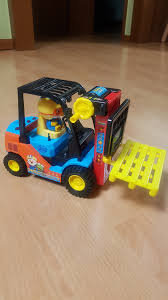bottle: (58, 86, 162, 202), (88, 81, 129, 193), (89, 84, 117, 182)
cake: (4, 81, 158, 204), (6, 81, 100, 189)
chair: (30, 0, 94, 41)
dining table: (0, 58, 167, 249)
person: (124, 0, 166, 46)
remote: (99, 135, 166, 200)
sports ball: (65, 169, 87, 192)
